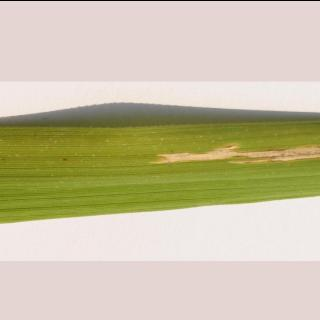Hawar-Daun: (146, 134, 320, 174)
